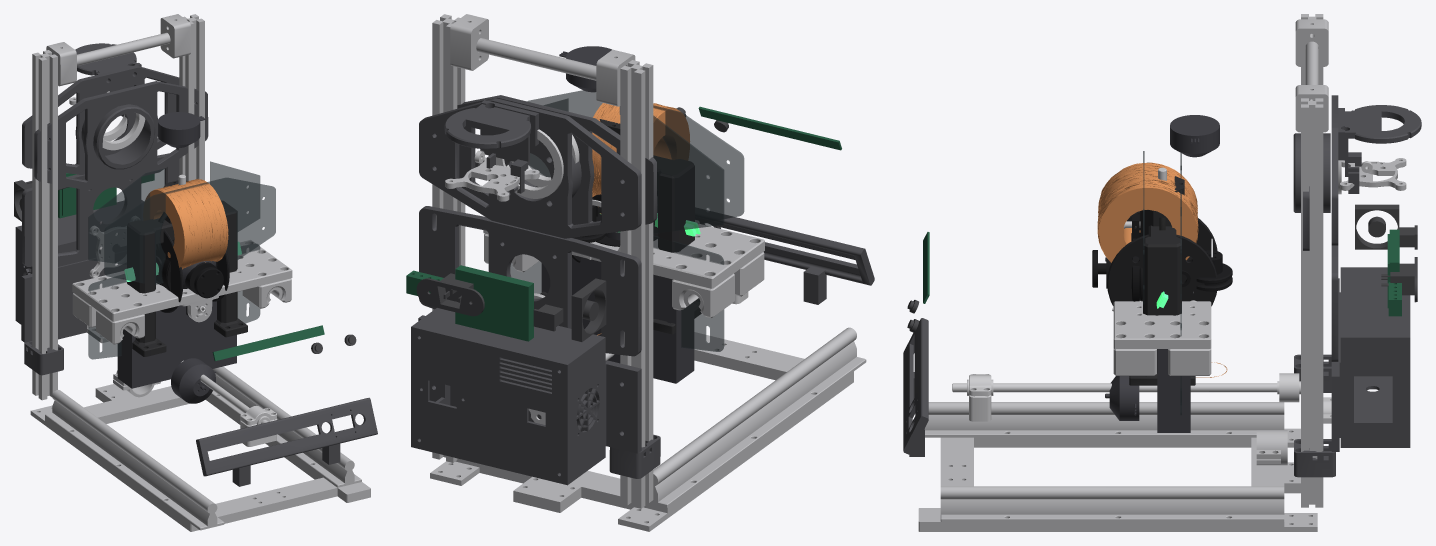
The model's file is stator-winder.glb.
The picture shows the model from 3 angles, left to right: view 1: azimuth 30°, elevation 25°; view 2: azimuth 150°, elevation 25°; view 3: azimuth 270°, elevation 25°; orthographic projection. The views are drawn at different scales.
Visible parts, largest first — view 1: post_2020_1, bridge_plate, cover_bridge, 08_Linear_carriage, ref_psu_LRS100, ref_spool_winding, 19_Motor_rod_aligner, bearing_6810_1, ref_controller_70x50, ref_spool_din100, guide_stem, ref_button_1; view 2: bridge_plate, post_2020_1, cover_bridge, 08_Linear_carriage, ref_controller_70x50, ref_psu_LRS100, ref_button_1, 19_Motor_rod_aligner, ref_spool_winding, bearing_6810_1; view 3: post_2020_1, bridge_plate, 08_Linear_carriage, ref_spool_winding, ref_psu_LRS100, bearing_6810_1, 19_Motor_rod_aligner, ref_spool_din100, ref_button_1, ref_controller_70x50, guide_stem, cover_bridge (+1 smaller).
Boxes of the visible parts, x1,y1,x2,y2 form: post_2020_1: [30, 14, 370, 531]; bridge_plate: [15, 43, 377, 486]; cover_bridge: [88, 161, 275, 359]; 08_Linear_carriage: [72, 240, 292, 344]; ref_psu_LRS100: [117, 112, 236, 403]; ref_spool_winding: [143, 178, 228, 269]; 19_Motor_rod_aligner: [127, 180, 247, 356]; bearing_6810_1: [87, 91, 276, 446]; ref_controller_70x50: [58, 173, 324, 361]; ref_spool_din100: [156, 230, 229, 312]; guide_stem: [160, 258, 223, 298]; ref_button_1: [14, 180, 356, 353]; bridge_plate: [411, 95, 874, 485]; post_2020_1: [430, 14, 866, 531]; cover_bridge: [510, 90, 744, 351]; 08_Linear_carriage: [483, 224, 764, 318]; ref_controller_70x50: [406, 106, 841, 341]; ref_psu_LRS100: [541, 46, 694, 383]; ref_button_1: [416, 107, 728, 341]; 19_Motor_rod_aligner: [540, 119, 701, 334]; ref_spool_winding: [592, 103, 689, 335]; bearing_6810_1: [474, 129, 748, 424]; post_2020_1: [918, 14, 1406, 531]; bridge_plate: [903, 95, 1421, 477]; 08_Linear_carriage: [1113, 292, 1211, 375]; ref_spool_winding: [1097, 162, 1227, 377]; ref_psu_LRS100: [1105, 115, 1219, 432]; bearing_6810_1: [952, 160, 1372, 423]; 19_Motor_rod_aligner: [1129, 176, 1195, 385]; ref_spool_din100: [1107, 211, 1217, 306]; ref_button_1: [907, 204, 1417, 332]; ref_controller_70x50: [923, 229, 1401, 316]; guide_stem: [1092, 233, 1232, 291]; cover_bridge: [1143, 151, 1181, 415].
Bounding box in the file's own units: 7209 × 13893 × 15313.
